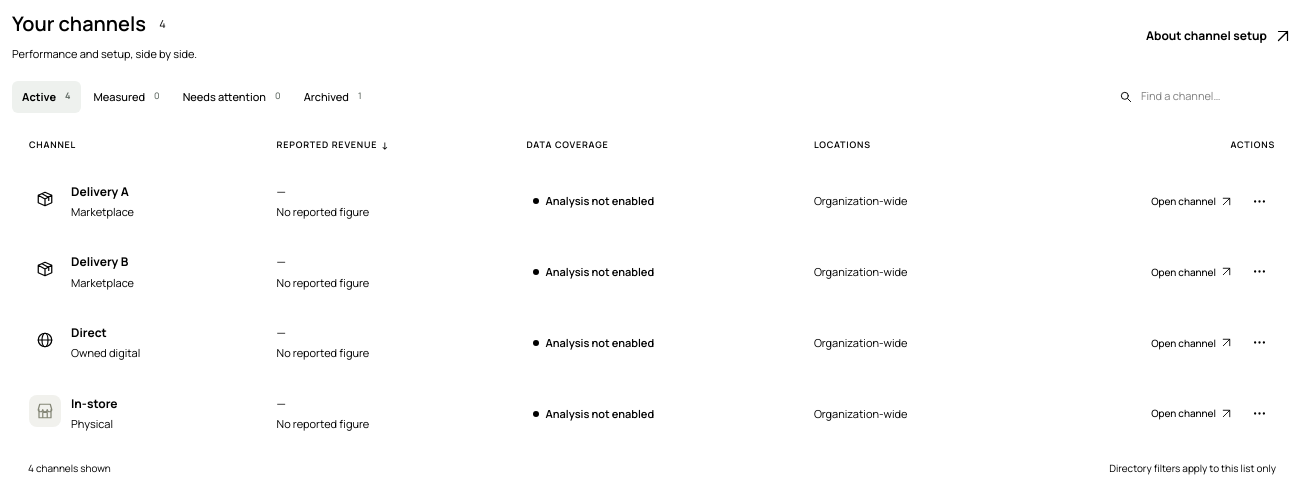
Test case: ChannelsDirectory › uses Open channel while the gate is off and keeps history for archives
Expected: the number of links "Open channel" is 4, [1151,194,1233,208]; [1151,265,1233,279]; [1151,336,1233,350]; [1151,406,1233,420]
Expected: the text "Analysis not enabled" is shown 4 times, [526,189,661,213]; [526,260,661,284]; [526,331,661,354]; [526,402,661,425]
Click the radio button labelled "Archived 1" at (333, 97), box [294,81,372,113]
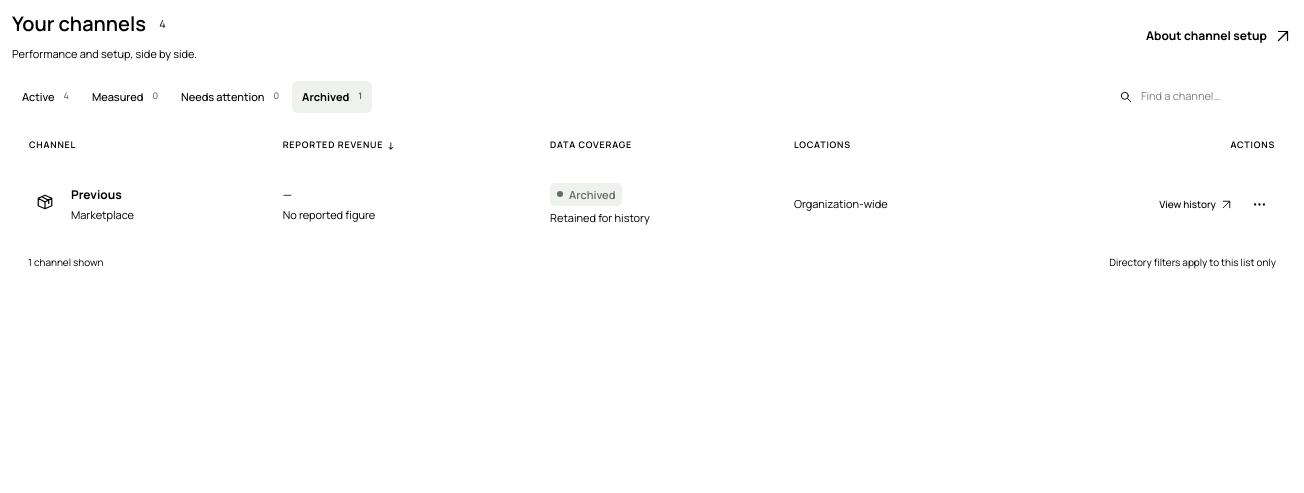
Result: the link "View history" is shown at [1159,197,1233,211]
